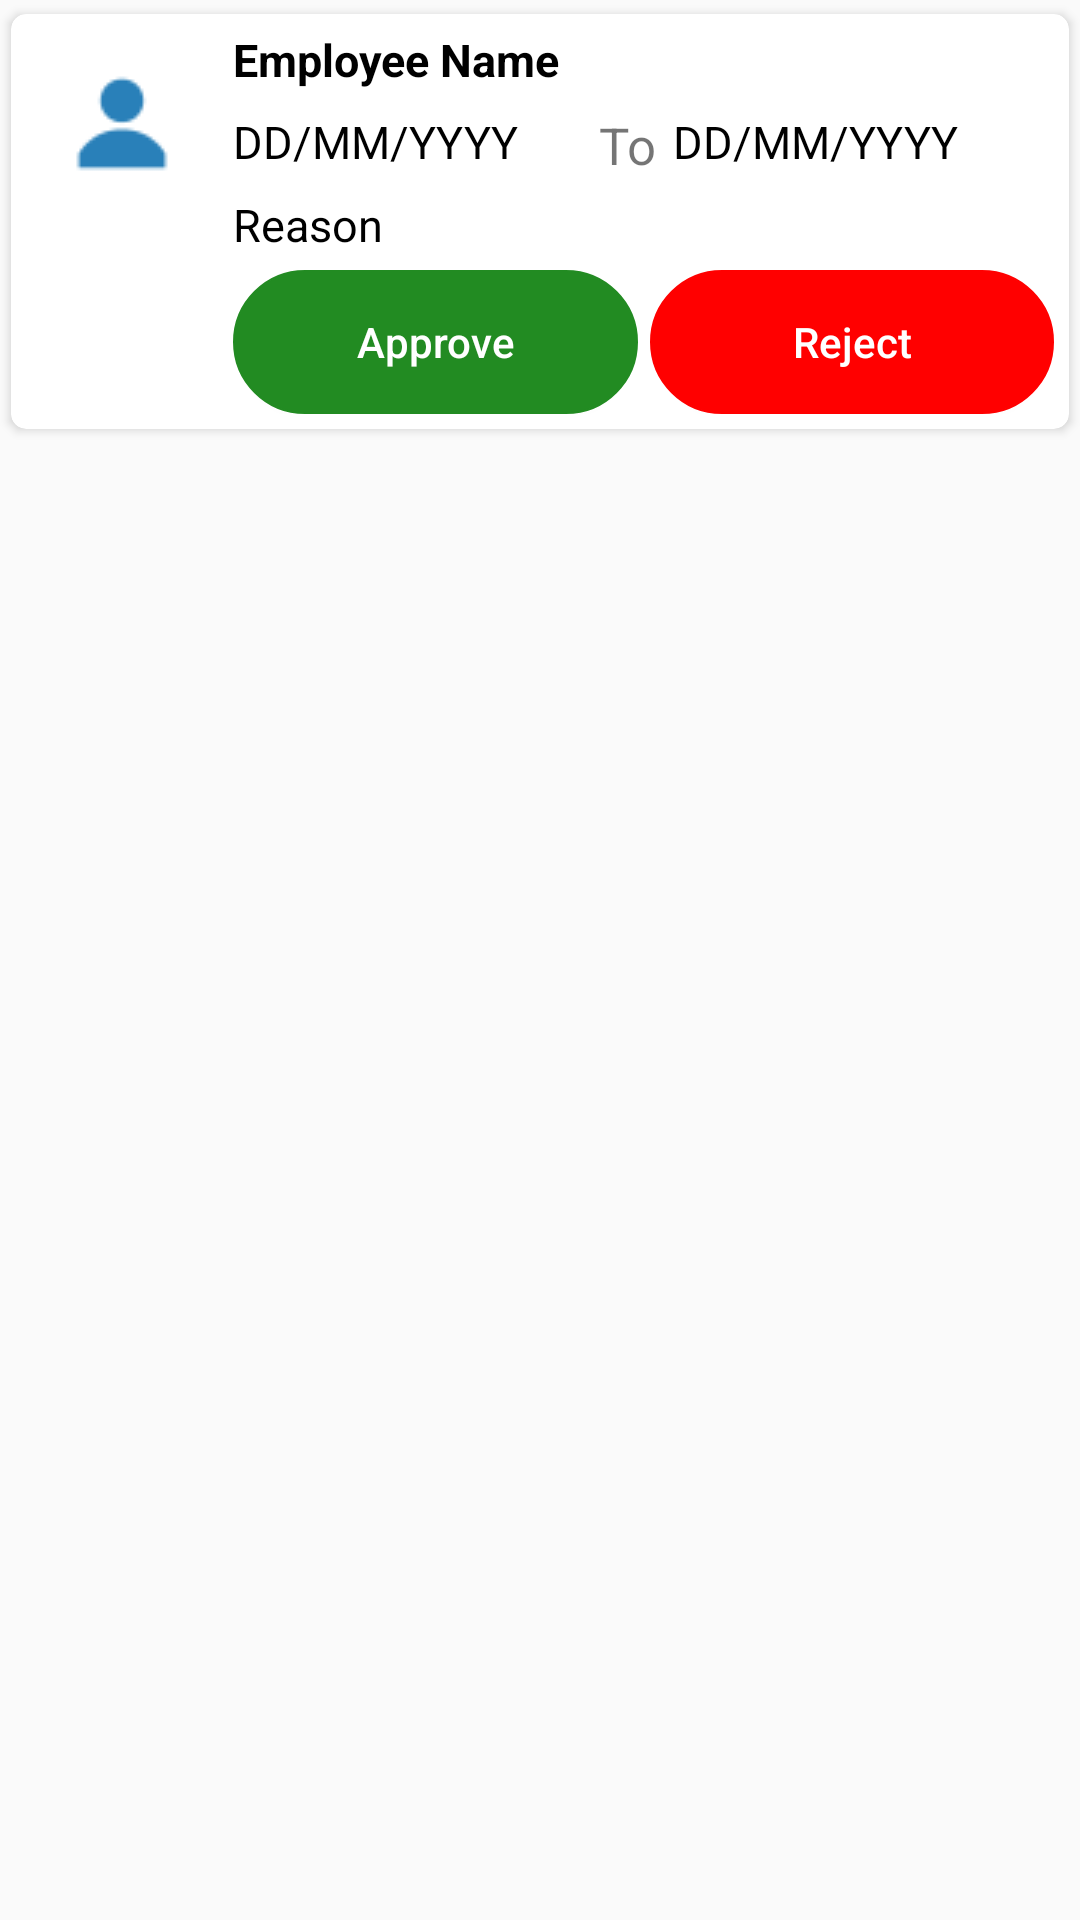

Screen size 1080px×1920px. Icon name, then its box in pixels as (x1=x1, y1=y1, x2=x2, y2=y2):
person: (x1=76, y1=77, x2=168, y2=170)
